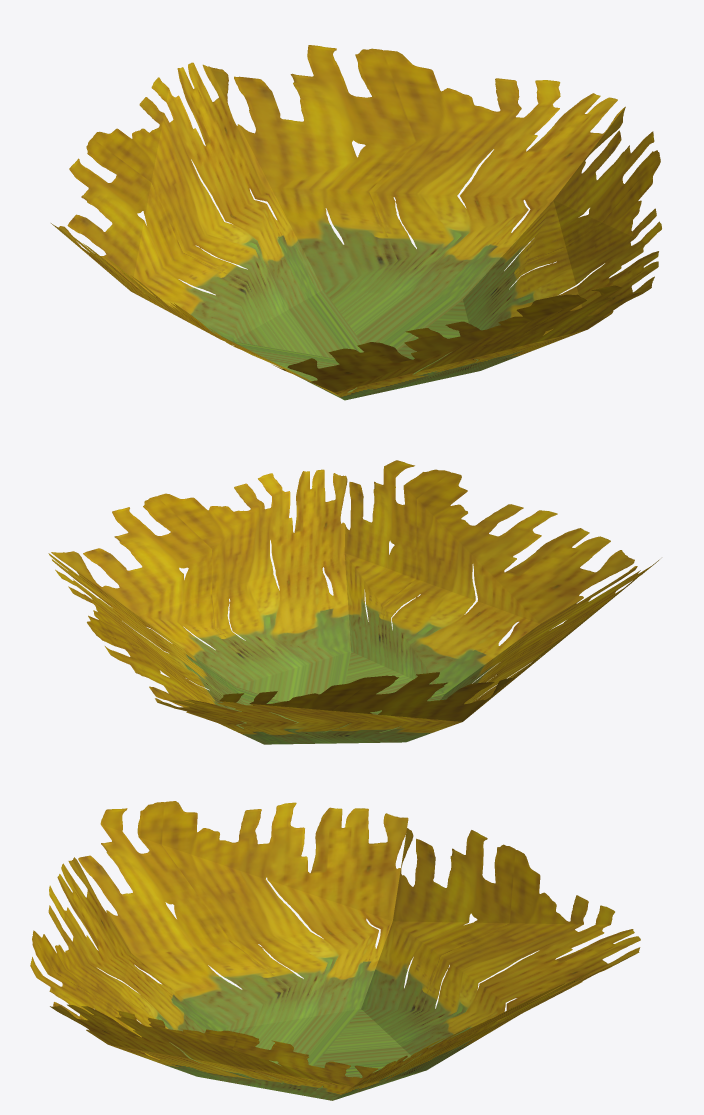
The picture shows the model from 3 angles, top to bottom: view 1: azimuth 30°, elevation 25°; view 2: azimuth 150°, elevation 25°; view 3: azimuth 270°, elevation 25°; orthographic projection. The views are drawn at different scales.
Parts seen in each view (by area): view 1: BT_7_F_1_1; view 2: BT_7_F_1_1; view 3: BT_7_F_1_1.
Boxes of the visible parts, x1,y1,x2,y2 form: BT_7_F_1_1: (51, 45, 661, 400); BT_7_F_1_1: (48, 460, 659, 744); BT_7_F_1_1: (30, 801, 640, 1100).
Size of the model in its own units: 5.39 by 1.64 by 5.64.
Materials: 1 (1 with a texture image).
